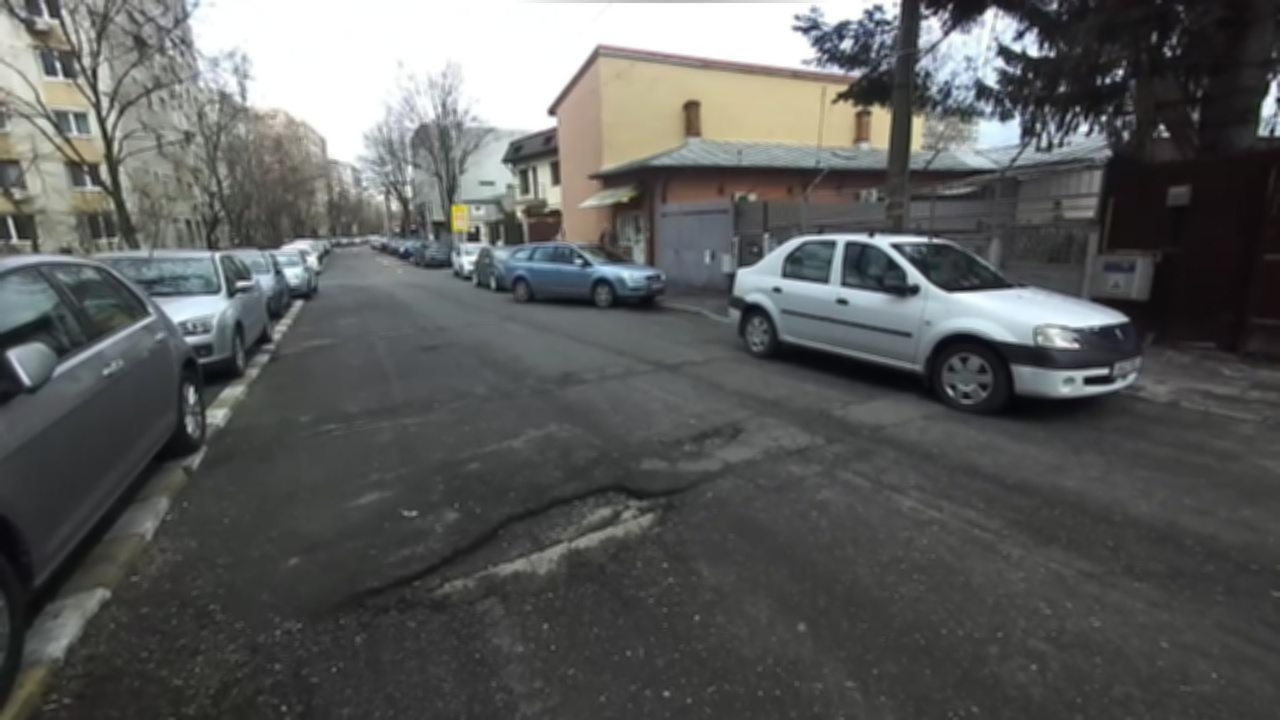pothole: (324, 472, 716, 623), (661, 413, 746, 456), (328, 416, 384, 435)
